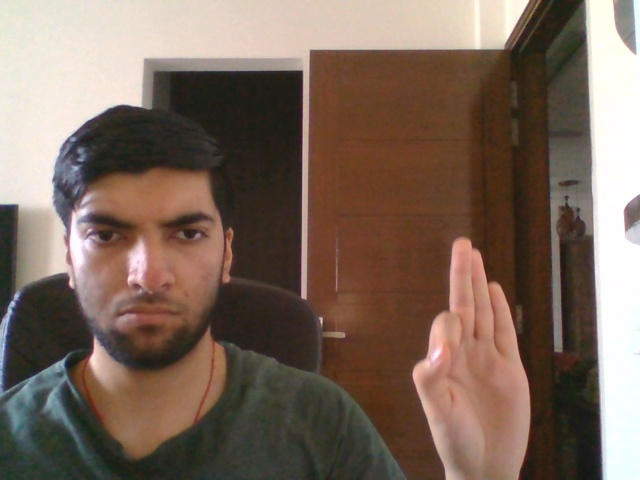LetterF: (411, 236, 532, 478)
